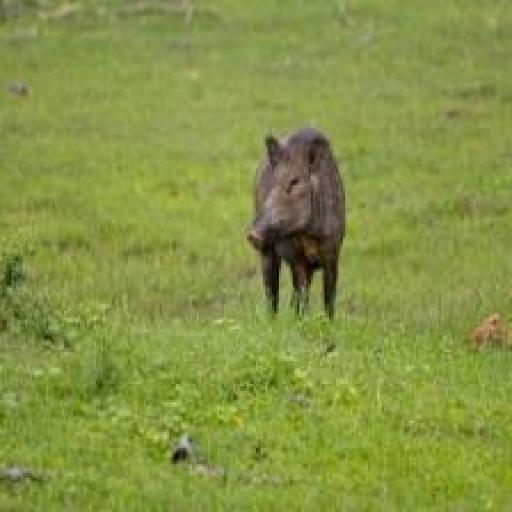Pig: (245, 121, 354, 324)
